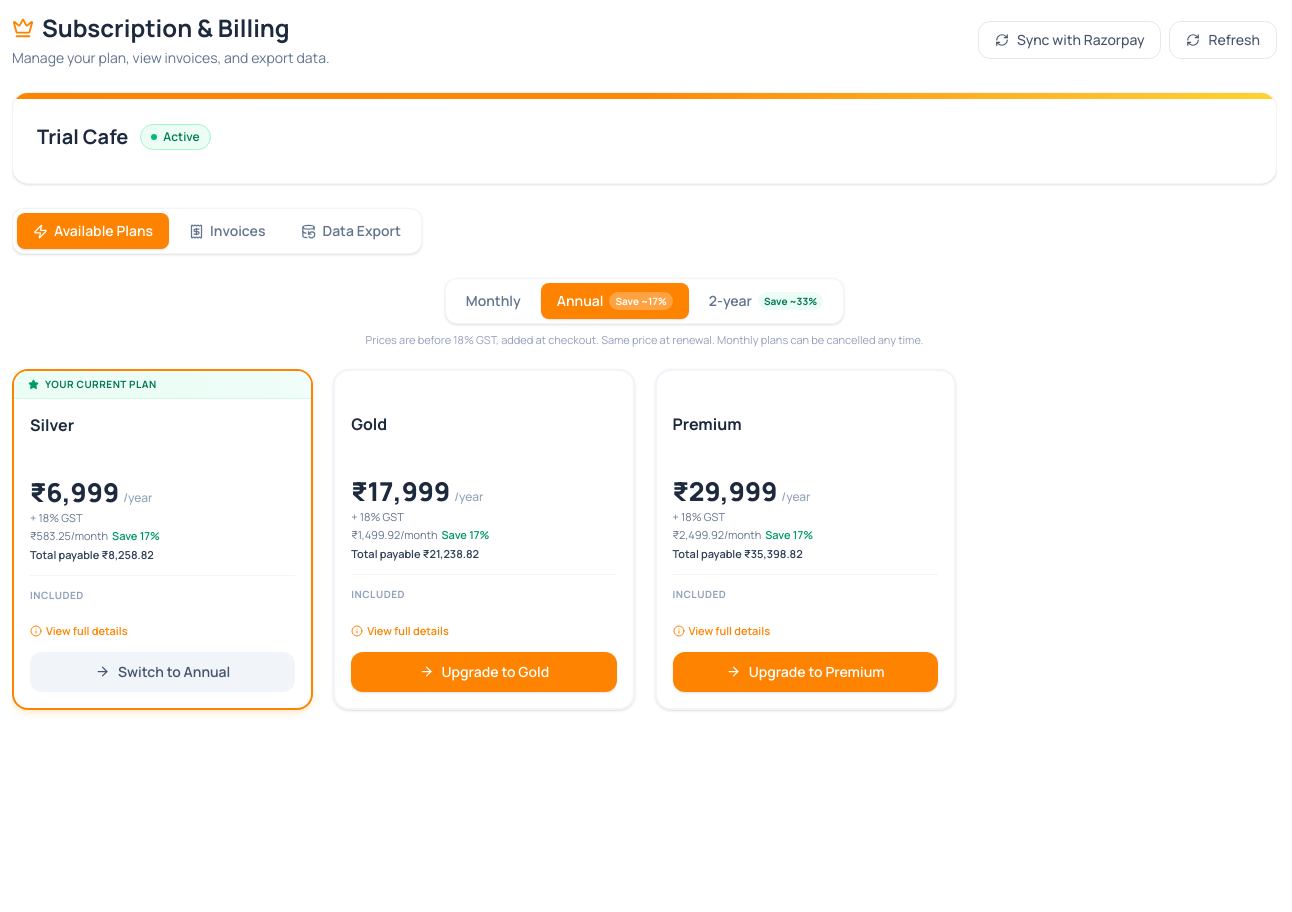
Test: cycle toggle and card prices › switching to monthly / 2-year changes price, suffix and a missing cycle is flagged
The width and height of the screenshot is (1292, 912).
Check: the text "₹17,999" is shown, box [351, 478, 450, 504]
Click the button with test id "cycle-monthly" at point(493, 301), box [450, 283, 537, 319]
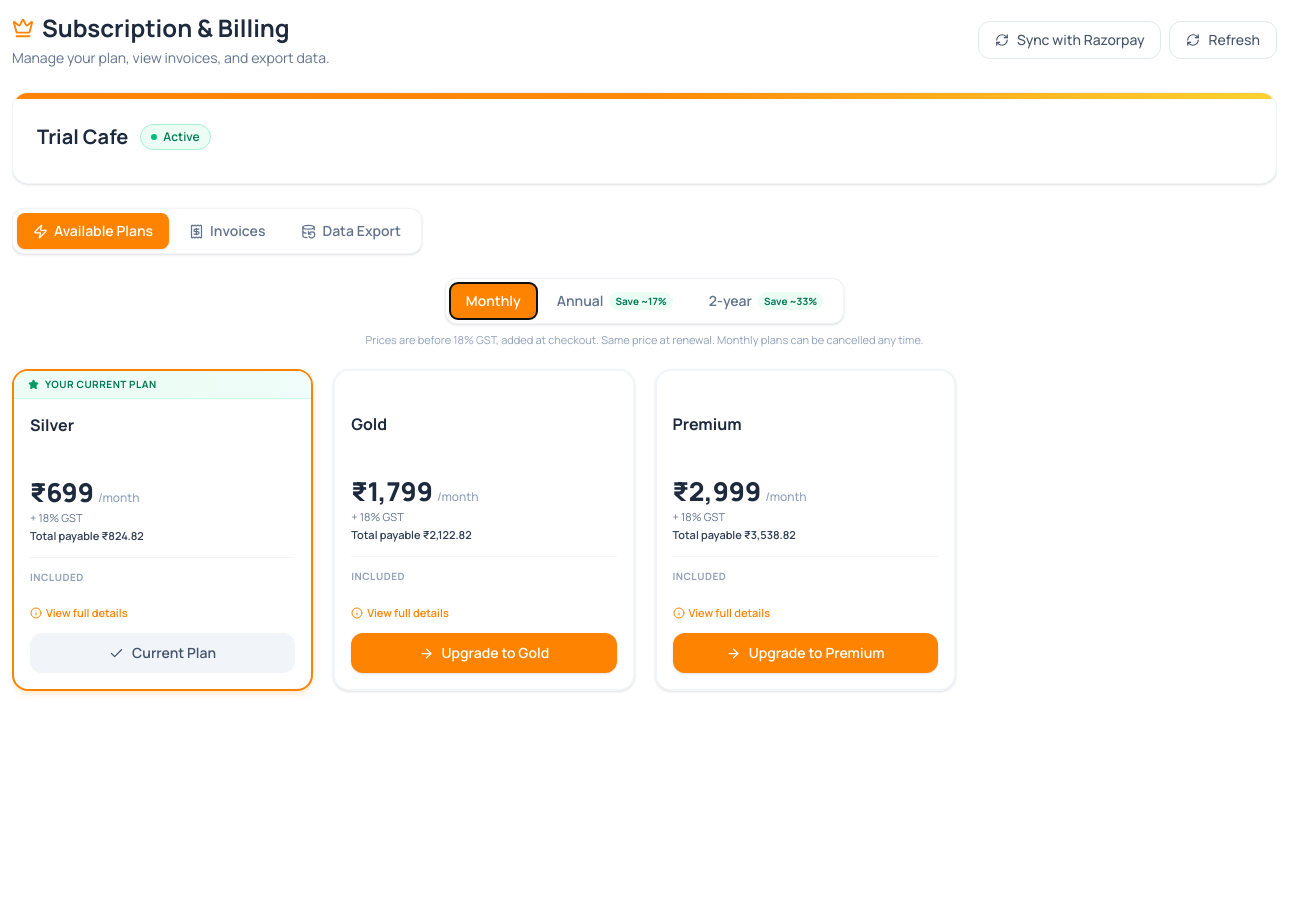
Check: the element with test id "breakdown-gold" does not show "/month", box [351, 508, 472, 542]
Check: the text with test id "price-gold" reads "₹1,799", box [351, 472, 433, 508]
Check: the element with test id "breakdown-gold" shows "Total payable ₹2,122.82", box [351, 508, 472, 542]
Click the button with test id "cycle-biennial" at point(766, 301), box [693, 283, 839, 319]
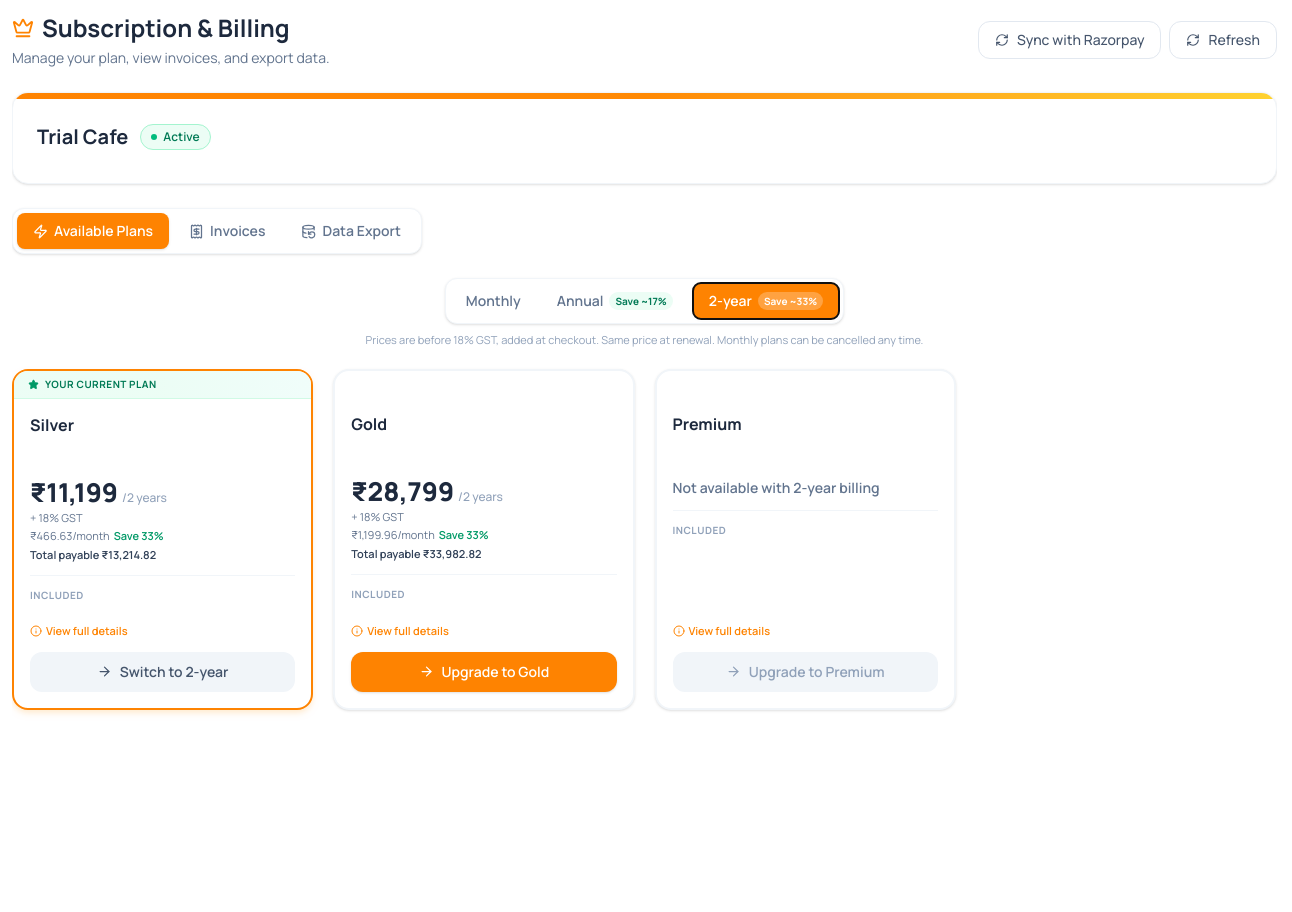
Check: the text with test id "price-gold" reads "₹28,799", box [351, 472, 454, 508]
Check: the text "/2 years" next to "₹11,199" is shown, box [122, 488, 167, 506]
Check: the text with test id "unavailable-premium" reads "Not available with 2-year billing", box [672, 478, 880, 498]
